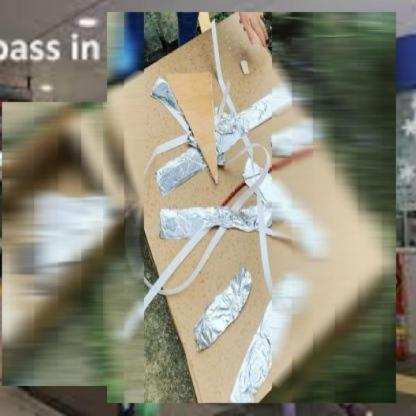-: (103, 6, 401, 410), (1, 98, 135, 392)
